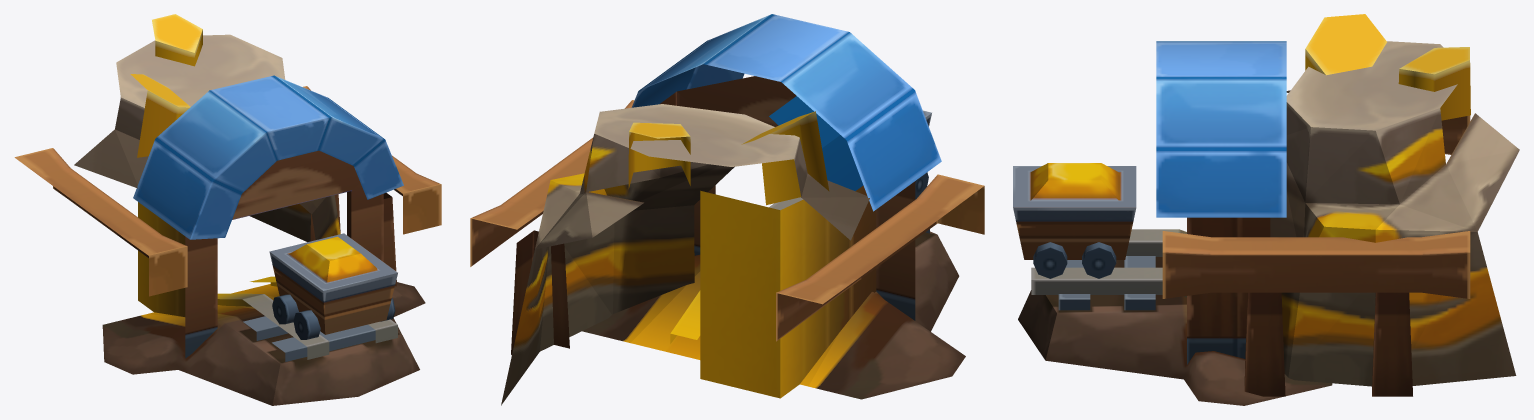
Rendered from B_Goldmin03.fbx.
The picture shows the model from 3 angles, left to right: view 1: azimuth 30°, elevation 25°; view 2: azimuth 150°, elevation 25°; view 3: azimuth 270°, elevation 25°; orthographic projection. The views are drawn at different scales.
Parts seen in each view (by area): view 1: B_Goldmin03_01, B_Goldmin03_02; view 2: B_Goldmin03_01; view 3: B_Goldmin03_01, B_Goldmin03_02.
Part boxes in pixels (x1=…): B_Goldmin03_01: x1=14, y1=14, x2=441, y2=405; B_Goldmin03_02: x1=269, y1=233, x2=397, y2=339; B_Goldmin03_01: x1=470, y1=14, x2=984, y2=405; B_Goldmin03_01: x1=1018, y1=14, x2=1519, y2=405; B_Goldmin03_02: x1=1013, y1=163, x2=1136, y2=278.
Bounding box in the file's own units: 3.76 × 2.71 × 4.65.
Materials: 1 (1 with a texture image).
